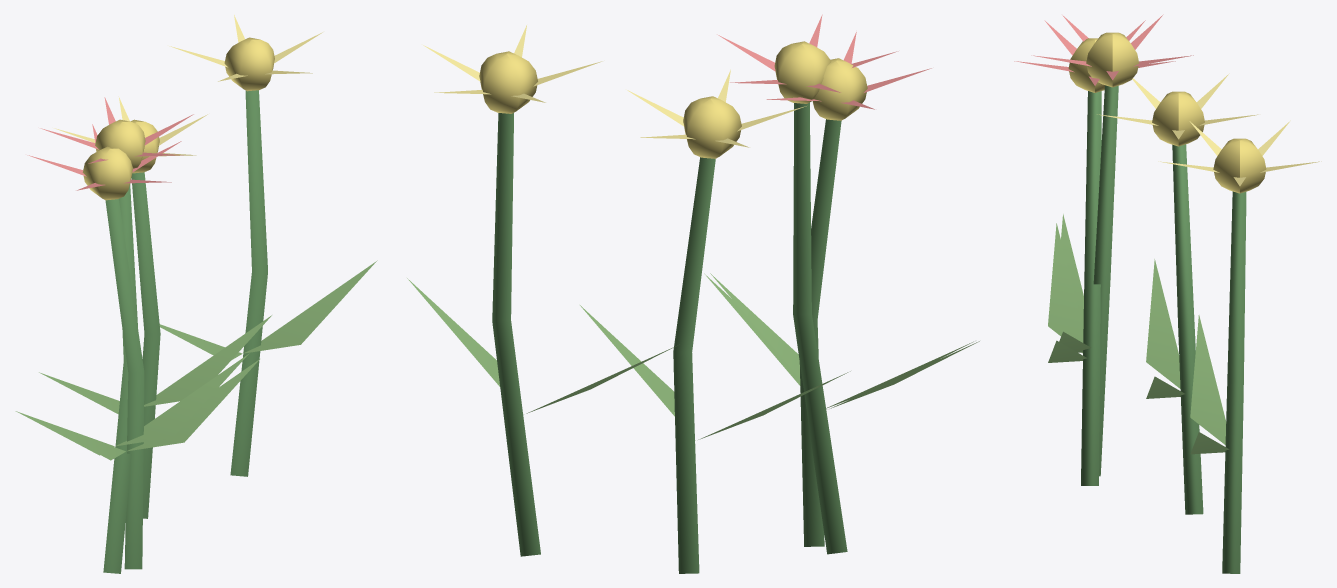
The model's file is blume_1.glb.
The picture shows the model from 3 angles, left to right: view 1: azimuth 30°, elevation 25°; view 2: azimuth 150°, elevation 25°; view 3: azimuth 270°, elevation 25°; orthographic projection. The views are drawn at different scales.
Visible parts, largest first — view 1: G_blume_1; view 2: G_blume_1; view 3: G_blume_1.
Part boxes in pixels (x1,y1,x2,y2): G_blume_1: [15, 15, 377, 573]; G_blume_1: [407, 14, 979, 573]; G_blume_1: [1014, 14, 1321, 573].
Bounding box in the file's own units: 0.5836 × 0.5693 × 0.3563.
